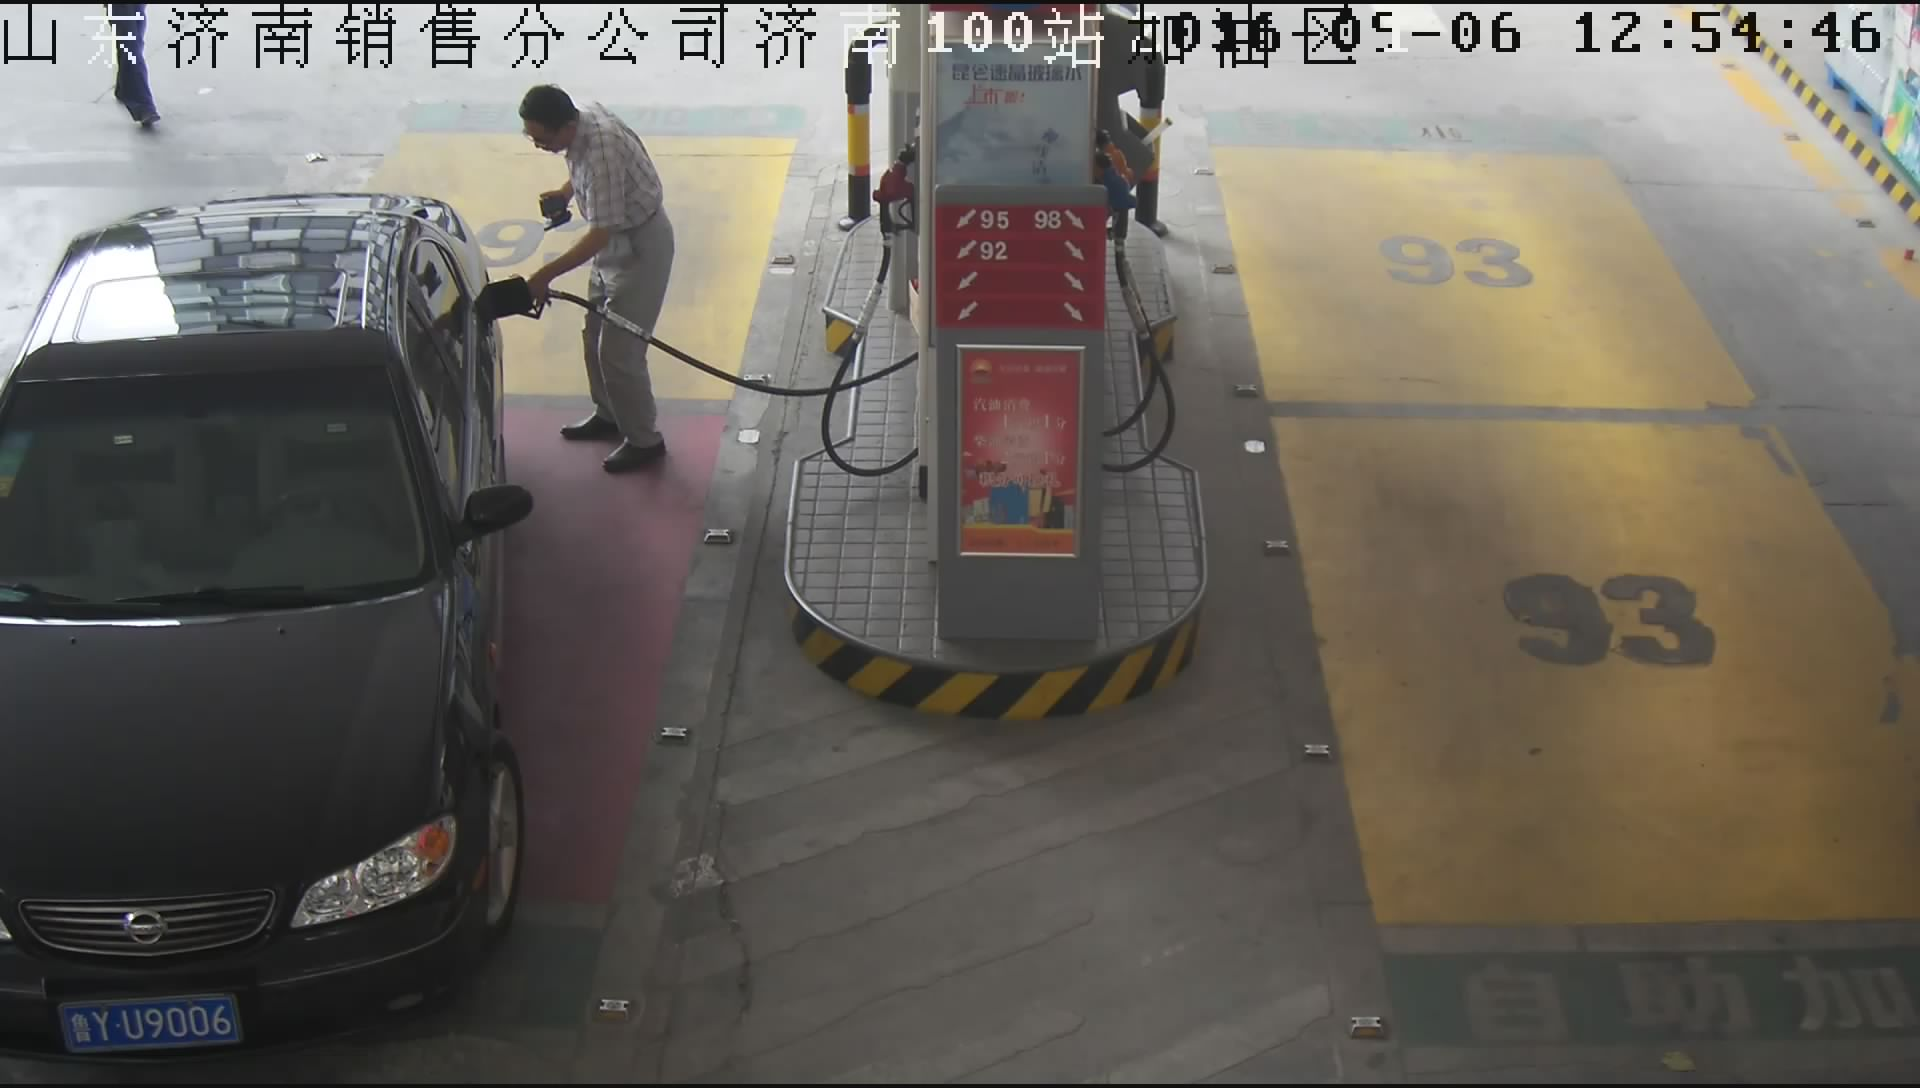blue: (58, 990, 247, 1056)
